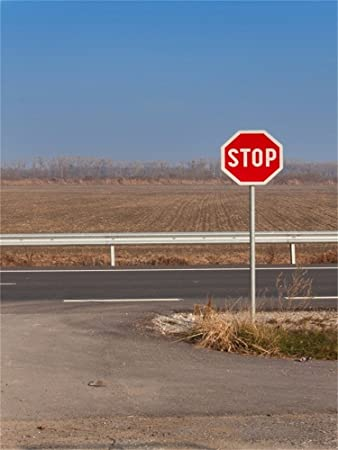stop: (219, 127, 285, 193)
